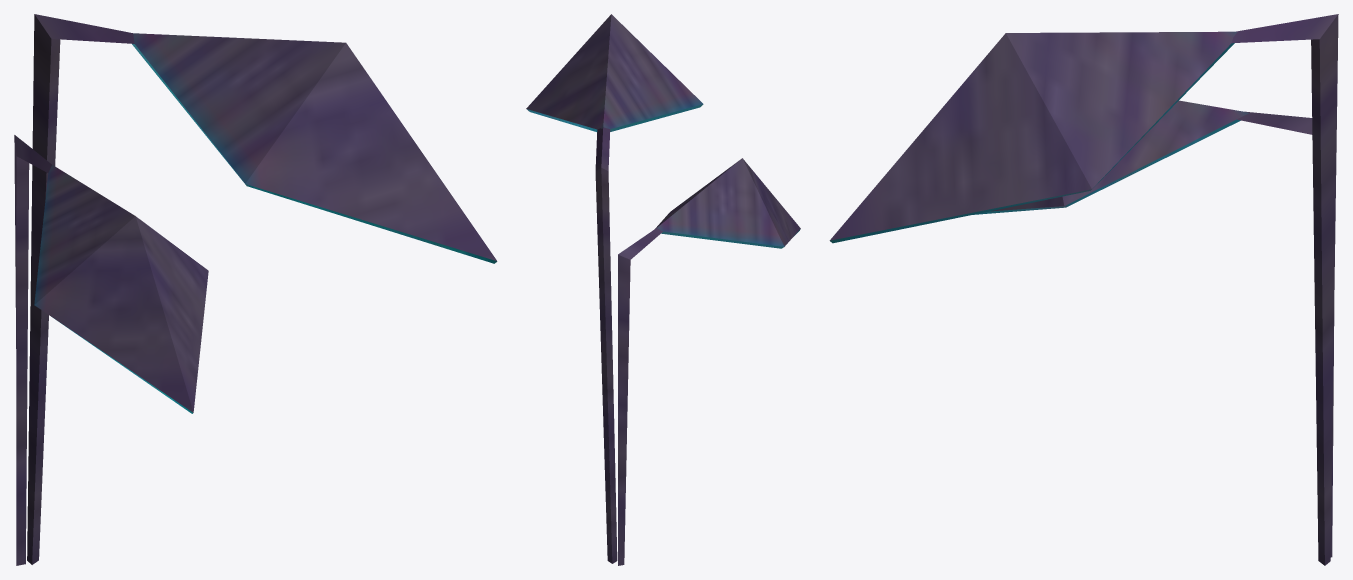
The model's file is colony-flower-art.glb.
3 renders of one model, left to right at view 1: azimuth 30°, elevation 25°; view 2: azimuth 150°, elevation 25°; view 3: azimuth 270°, elevation 25°, orthographic. The views are drawn at different scales.
Visible parts, largest first — view 1: Colony_Flower_Art; view 2: Colony_Flower_Art; view 3: Colony_Flower_Art.
Part boxes in pixels (x1=…): Colony_Flower_Art: x1=14, y1=14, x2=497, y2=565; Colony_Flower_Art: x1=526, y1=14, x2=800, y2=565; Colony_Flower_Art: x1=829, y1=14, x2=1338, y2=565.
Bounding box in the file's own units: 0.8171 × 1.33 × 1.01.
Materials: 1 (1 with a texture image).
